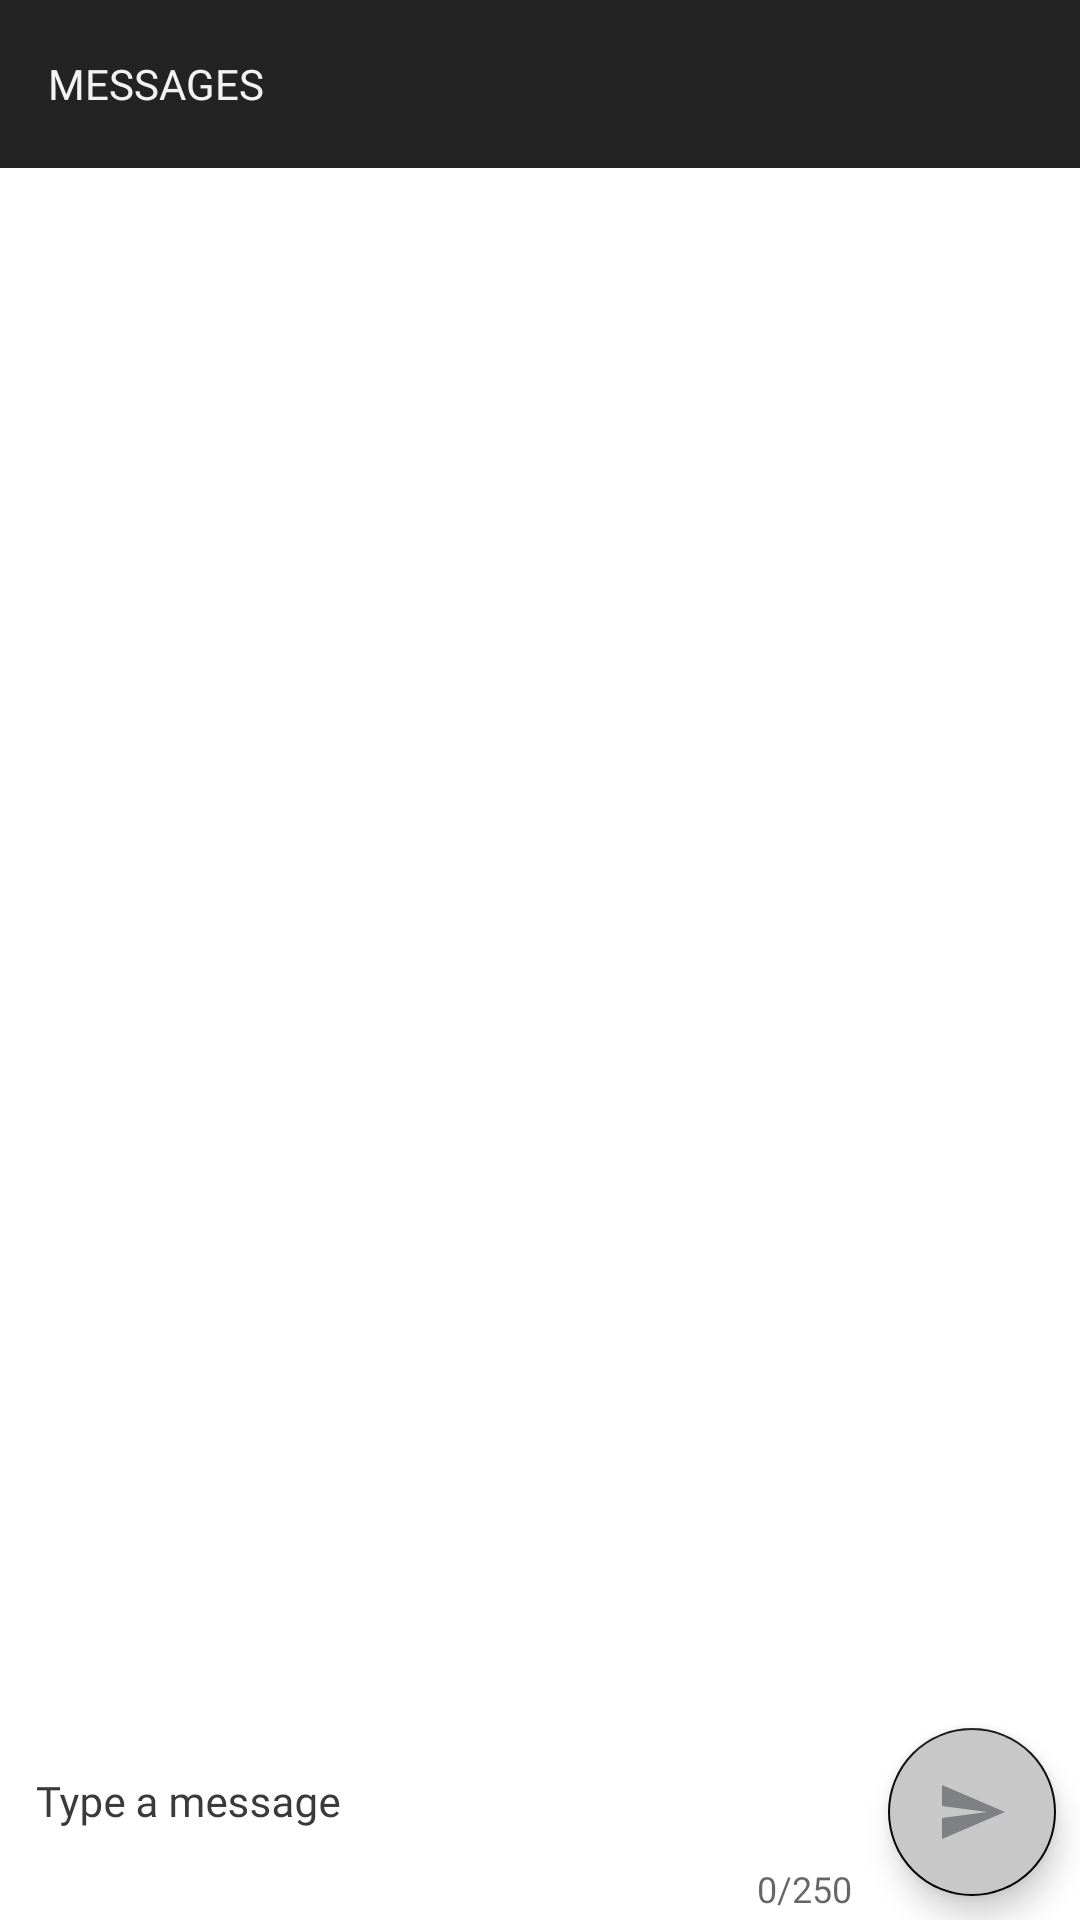

Icons on this 1080×1920 Android screen, each with its box as region(x1, y1, x2, y2):
send message: region(888, 1728, 1056, 1896)
